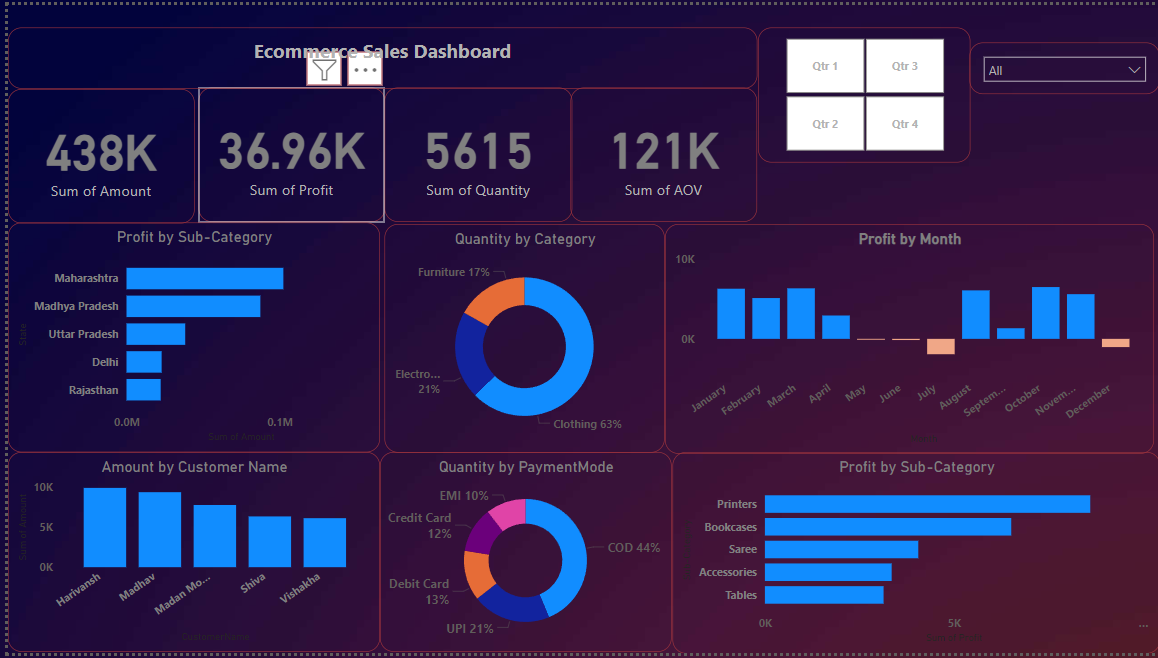

This screenshot's page, from the dashboard's own definition file:
{"tool":"powerbi","page":{"name":"Page 1","canvas":[1280,720],"ordinal":0},"visuals":[{"type":"columnChart","title":" Profit by Month","fields":{"Y":["Details.Profit"],"Category":["Orders.Order Date.Variation.Date Hierarchy.Month"]},"box":[730.1,242.9,543.4,255.3],"z":0},{"type":"donutChart","title":" Quantity by Category","fields":{"Category":["Details.Category"],"Y":["Details.Quantity"]},"box":[418.6,242.9,311.5,253.9],"z":2000},{"type":"donutChart","title":" Quantity by PaymentMode","fields":{"Y":["Details.Quantity"],"Category":["Details.PaymentMode"]},"box":[413.1,496.8,323.9,222.3],"z":3000},{"type":"card","fields":{"Values":["Details.Amount"]},"box":[0,93.3,207.2,149.6],"z":4000},{"type":"card","fields":{"Values":["Details.Quantity"]},"box":[418.6,91.9,208.6,149.6],"z":5000},{"type":"card","fields":{"Values":["Details.Profit"]},"box":[211.3,91.9,207.2,149.6],"z":6000},{"type":"card","fields":{"Values":["Details.AOV"]},"box":[625.8,91.9,207.2,149.6],"z":7000},{"type":"barChart","title":" Profit by Sub-Category","fields":{"Category":["Details.Sub-Category"],"Y":["Details.Profit"]},"box":[738.3,496.8,542.1,223.7],"z":8000},{"type":"barChart","title":" Profit by Sub-Category","fields":{"Category":["Orders.State"],"Y":["Details.Amount"]},"box":[0,241.5,413.1,255.3],"z":9000},{"type":"columnChart","title":" Amount by Customer Name","fields":{"Category":["Orders.CustomerName"],"Y":["Details.Amount"]},"box":[0,496.8,413.1,222.3],"z":10000},{"type":"textbox","box":[0,24.2,832.8,68.1],"z":11000},{"type":"slicer","fields":{"Values":["Orders.Order Date.Variation.Date Hierarchy.Quarter"]},"box":[832.8,24.2,236.2,149.9],"z":11001},{"type":"slicer","fields":{"Values":["Orders.State"]},"box":[1069,41.2,211.3,57.6],"z":11002}]}

Visuals, with their boxes in screenshot pixels (x1, y1, x2, y2), scaled from the page's 1280x720 canvas onto the 1158x658 screenshot:
" Profit by Month" columnChart: x1=661, y1=222, x2=1152, y2=455
" Quantity by Category" donutChart: x1=379, y1=222, x2=661, y2=454
" Quantity by PaymentMode" donutChart: x1=374, y1=454, x2=667, y2=657
card - Details.Amount: x1=0, y1=85, x2=187, y2=222
card - Details.Quantity: x1=379, y1=84, x2=567, y2=221
card - Details.Profit: x1=191, y1=84, x2=379, y2=221
card - Details.AOV: x1=566, y1=84, x2=754, y2=221
" Profit by Sub-Category" barChart: x1=668, y1=454, x2=1157, y2=657
" Profit by Sub-Category" barChart: x1=0, y1=221, x2=374, y2=454
" Amount by Customer Name" columnChart: x1=0, y1=454, x2=374, y2=657
textbox: x1=0, y1=22, x2=753, y2=84
slicer - Orders.Order Date.Variation.Date Hierarchy.Quarter: x1=753, y1=22, x2=967, y2=159
slicer - Orders.State: x1=967, y1=38, x2=1157, y2=90
